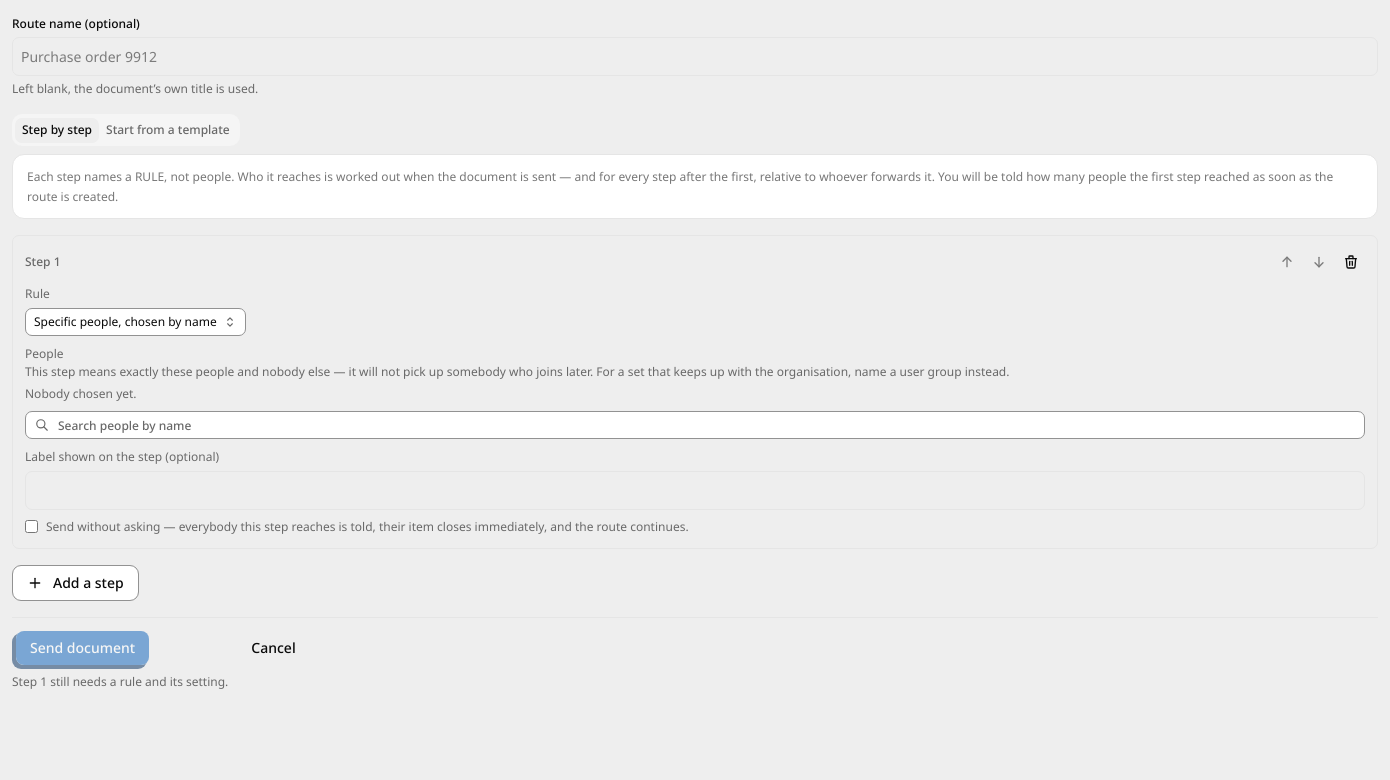
Scenario: RouteComposer — naming a user group › shows the server refusal when a preview cannot be resolved, and still lets the step stand
Click the dropdown named "Rule" at (135, 322), box [25,308,246,336]
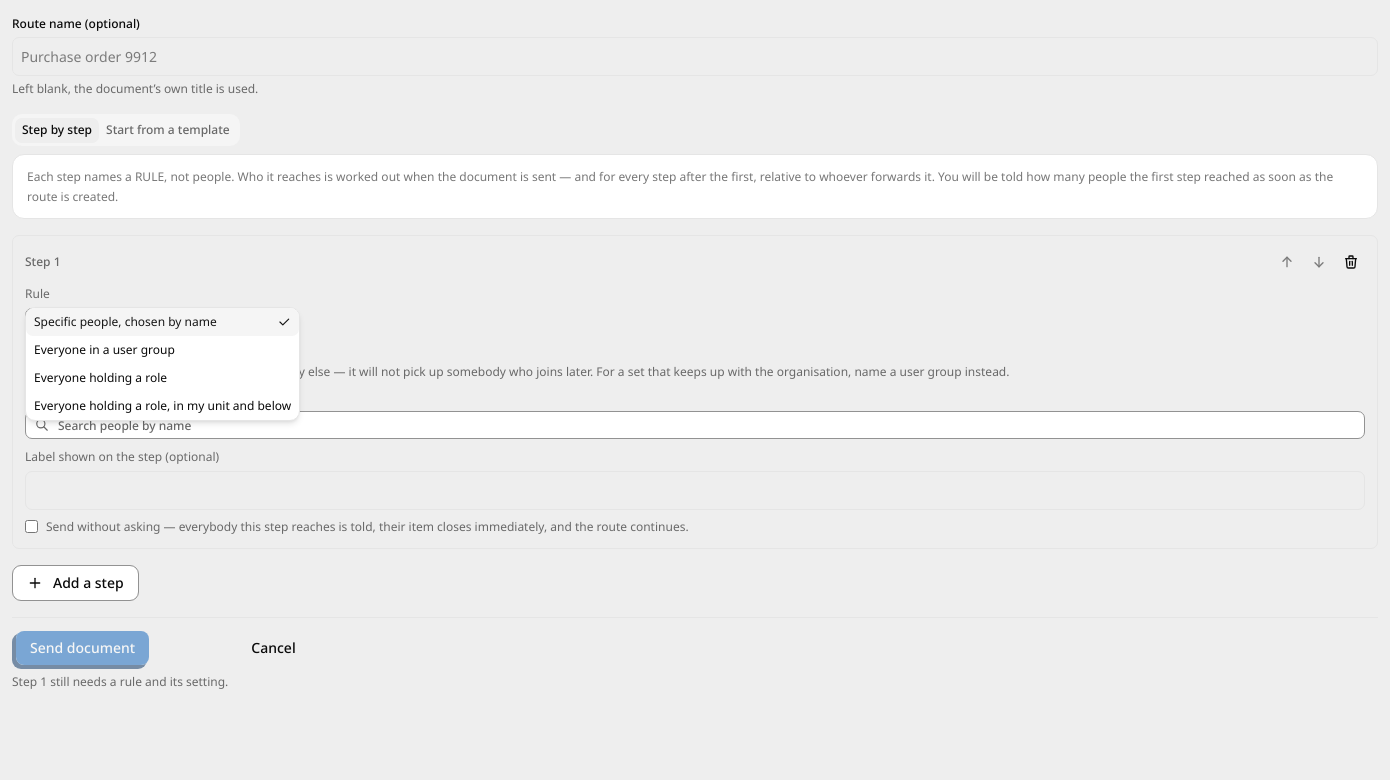
Click the option "Everyone in a user group" at (104, 349), box [34,341,175,358]
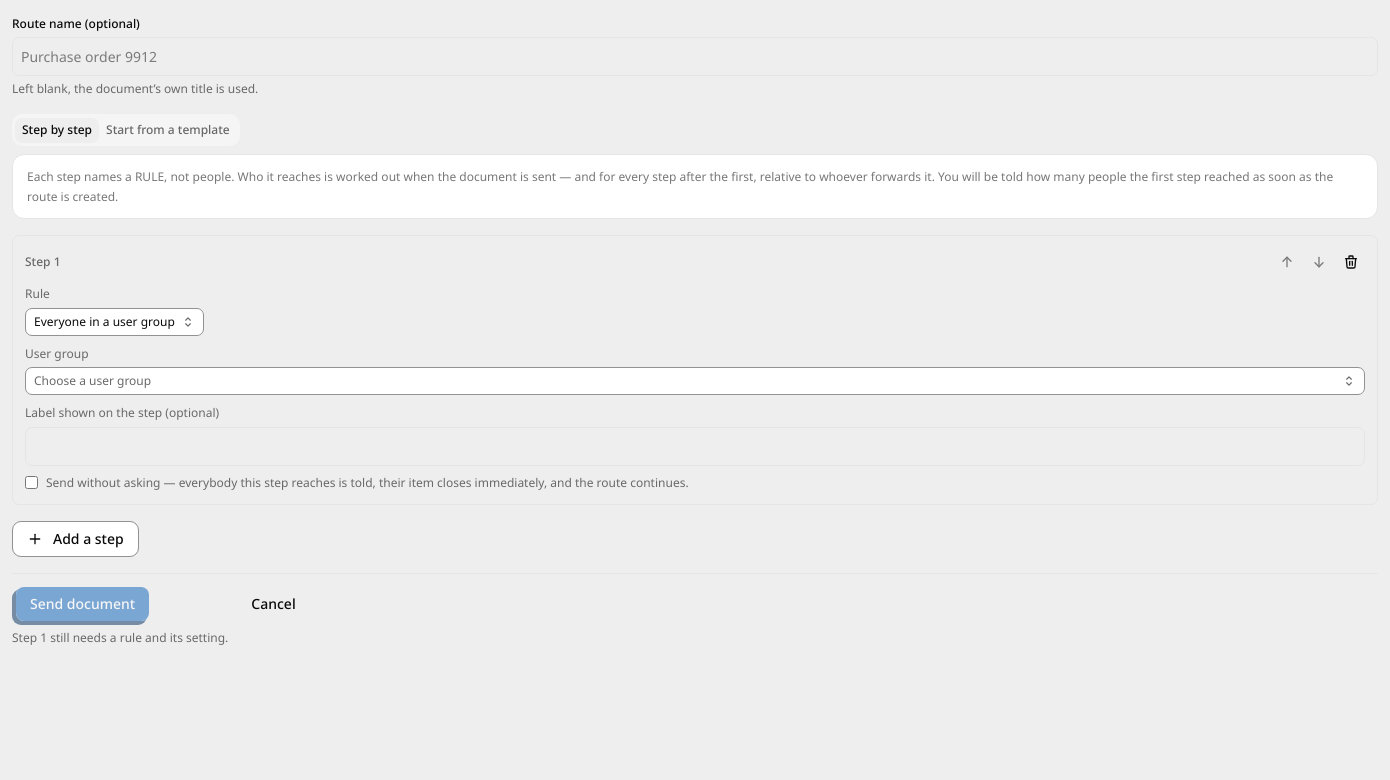
Click the dropdown labelled "user group" at (93, 381), box [25,367,1365,395]
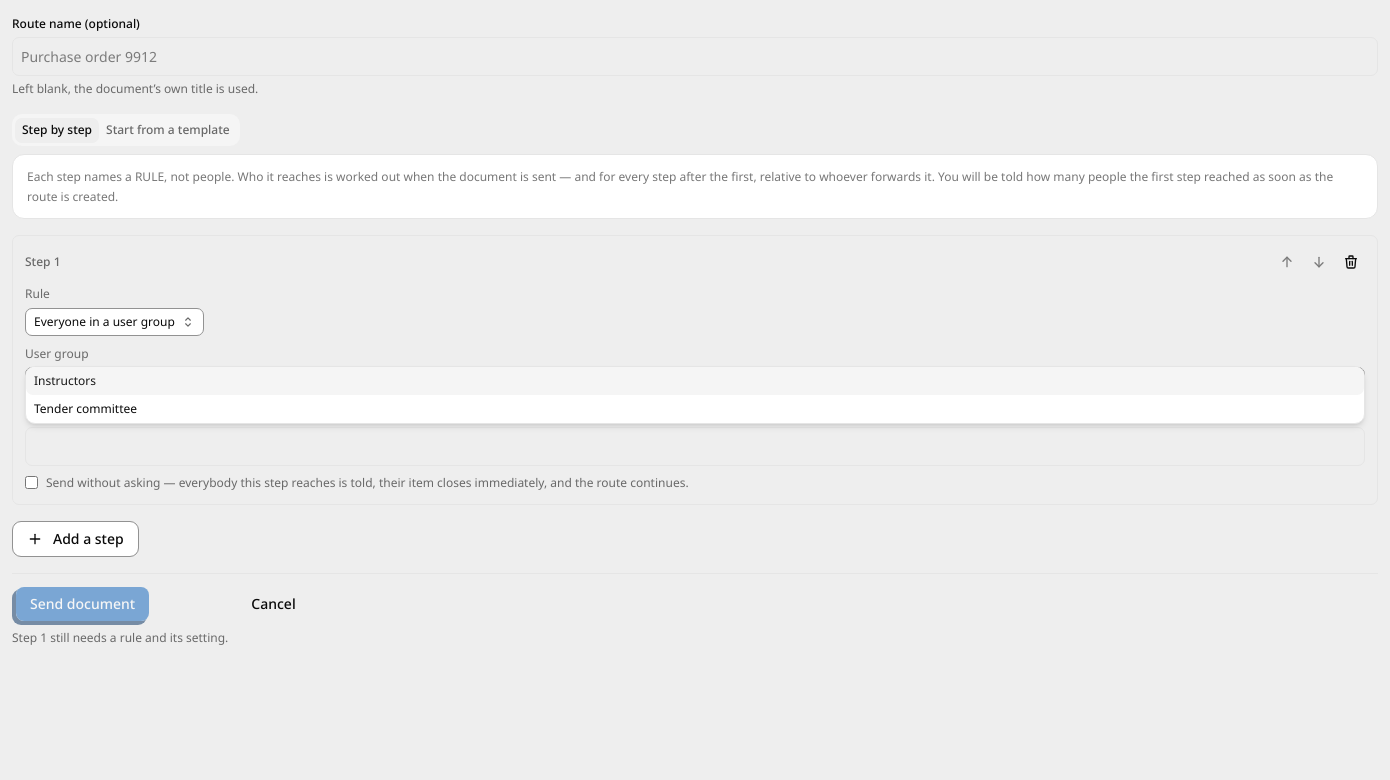
Click the option "Tender committee" at (86, 409), box [34,400,137,417]
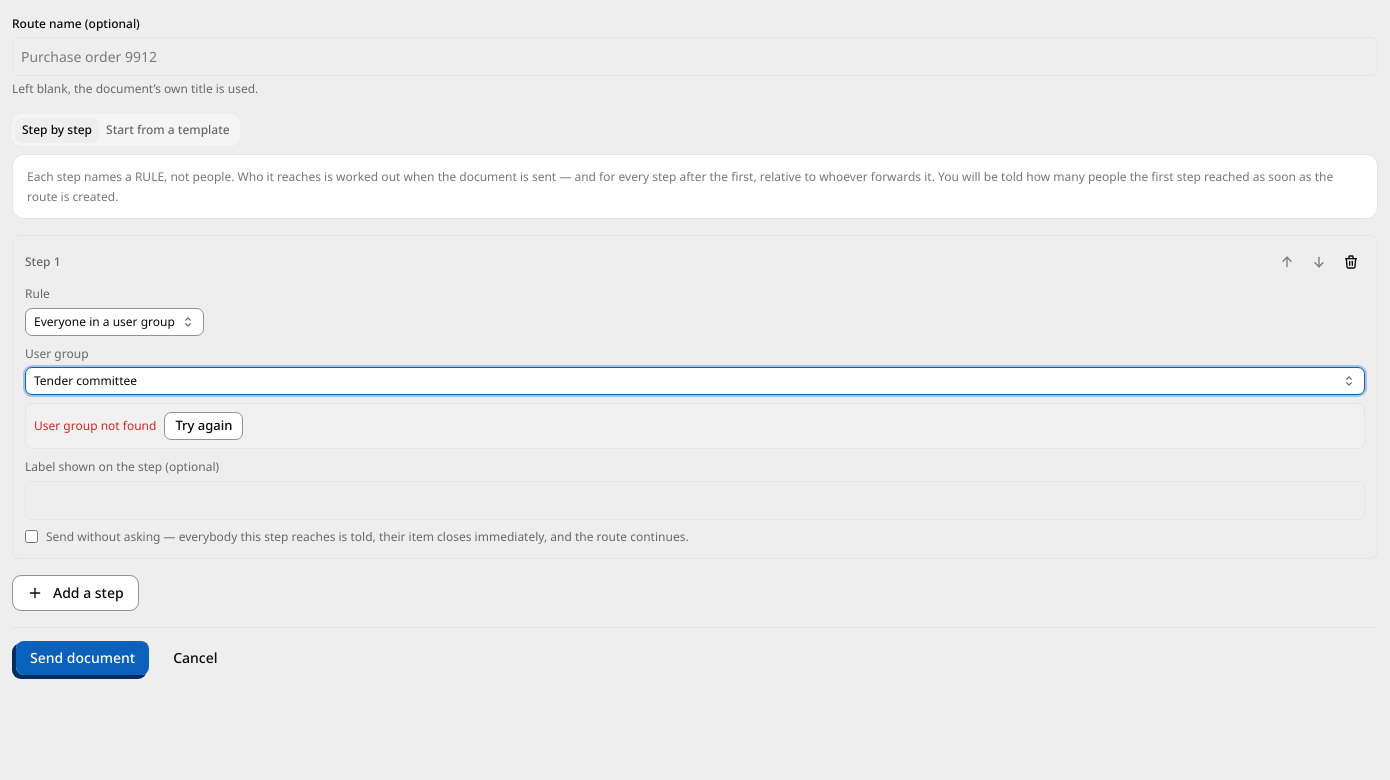
Expected: the text "User group not found" is shown, [34,417,156,435]
Expected: the button "Send document" is enabled, [15,640,150,676]
